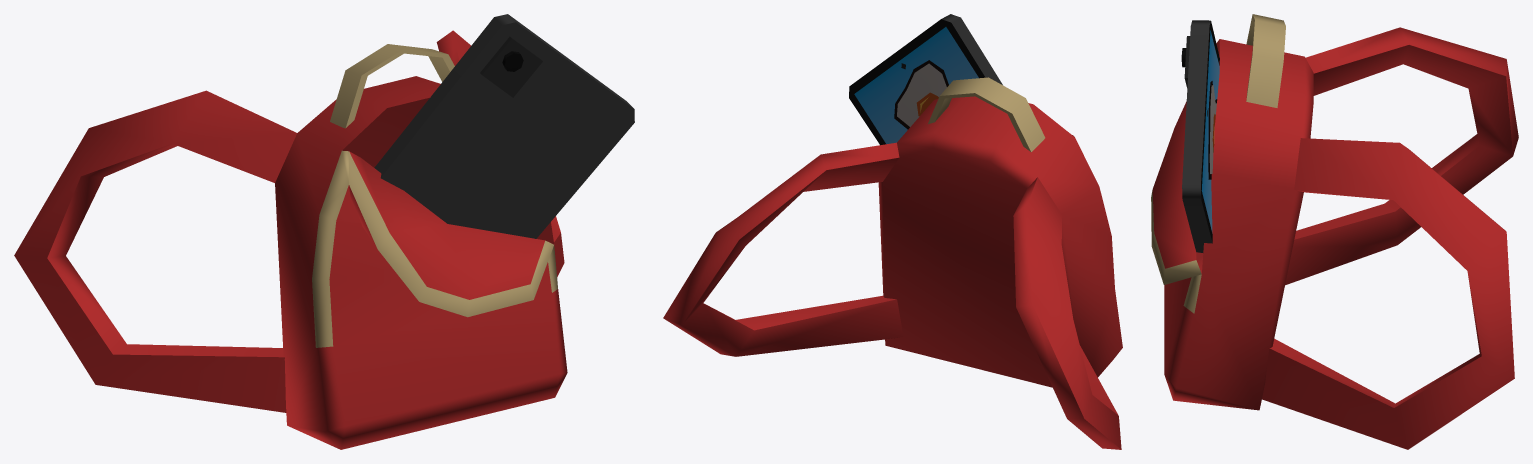
Rendered from hat_tabletpack.glb.
3 views of the same model, side by side, from view 1: azimuth 30°, elevation 25°; view 2: azimuth 150°, elevation 25°; view 3: azimuth 270°, elevation 25° (orthographic). The views are drawn at different scales.
Visible parts, largest first — view 1: hat_tabletpack; view 2: hat_tabletpack; view 3: hat_tabletpack.
Part boxes in pixels (x1,y1,x2,y2): hat_tabletpack: [14, 14, 634, 449]; hat_tabletpack: [663, 14, 1122, 449]; hat_tabletpack: [1151, 14, 1518, 449].
Size of the model in its own units: 0.5338 by 0.3863 by 0.3506.
